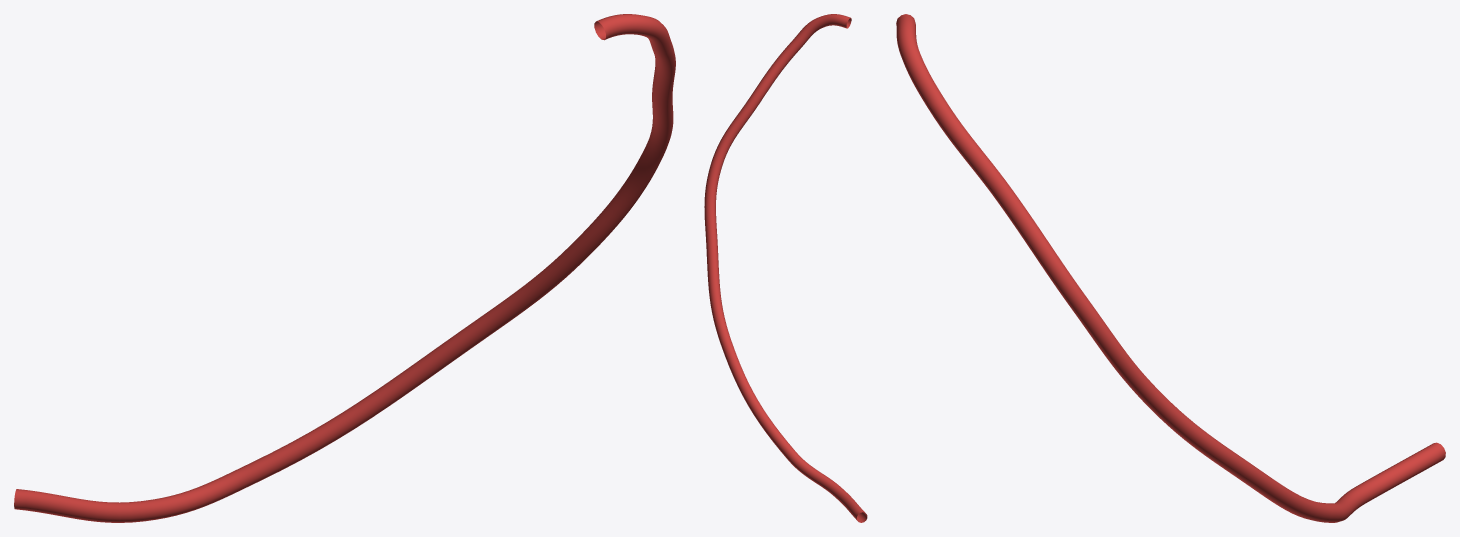
3 renders of one model, left to right at view 1: azimuth 30°, elevation 25°; view 2: azimuth 150°, elevation 25°; view 3: azimuth 270°, elevation 25°, orthographic. The views are drawn at different scales.
Visible parts, largest first — view 1: 左侧第1肋间后动脉; view 2: 左侧第1肋间后动脉; view 3: 左侧第1肋间后动脉.
Part boxes in pixels (left/top/right/bottom): 左侧第1肋间后动脉: left=14, top=14, right=675, bottom=522; 左侧第1肋间后动脉: left=704, top=14, right=867, bottom=522; 左侧第1肋间后动脉: left=896, top=14, right=1445, bottom=522.
Bounding box in the file's own units: 0.0766 × 0.0987 × 0.0829.
